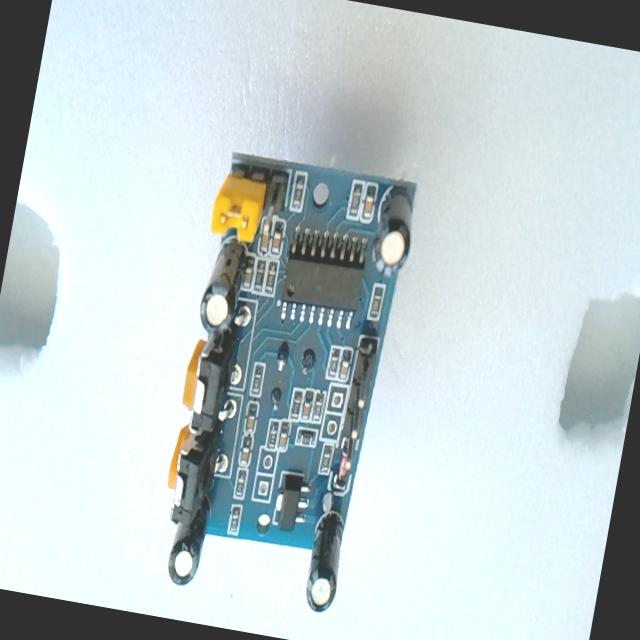Electrolytic capacitor: (188, 220, 248, 336), (366, 172, 419, 296), (299, 498, 350, 608)
IC: (274, 213, 376, 335)
